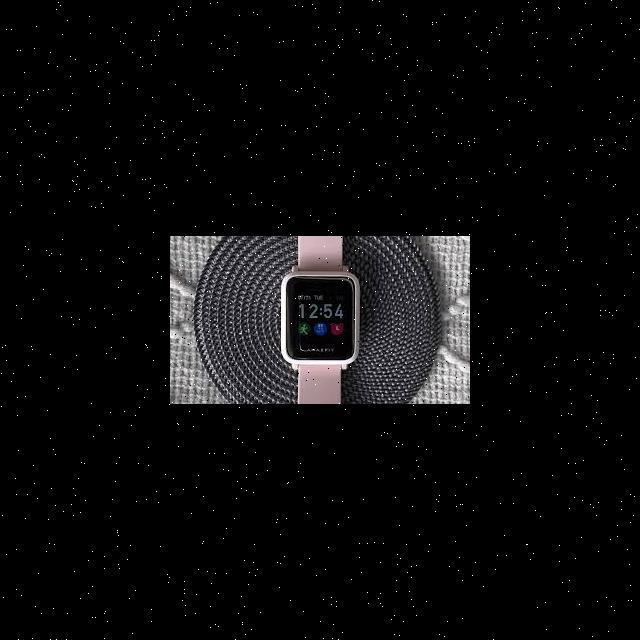watch: (282, 218, 372, 420)
